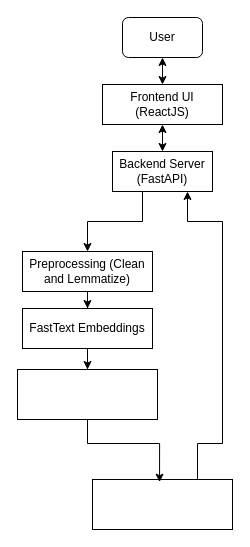
Some shapes in this 250 by 547 pixel diagram are drawn without their labels. Each missing label, with the centre of its shape:
CNN-LSTM Model (Feature Extraction and Sequence Learning): (x=87, y=394)
LIME Explainer (Word Importance Attribution): (x=162, y=504)
